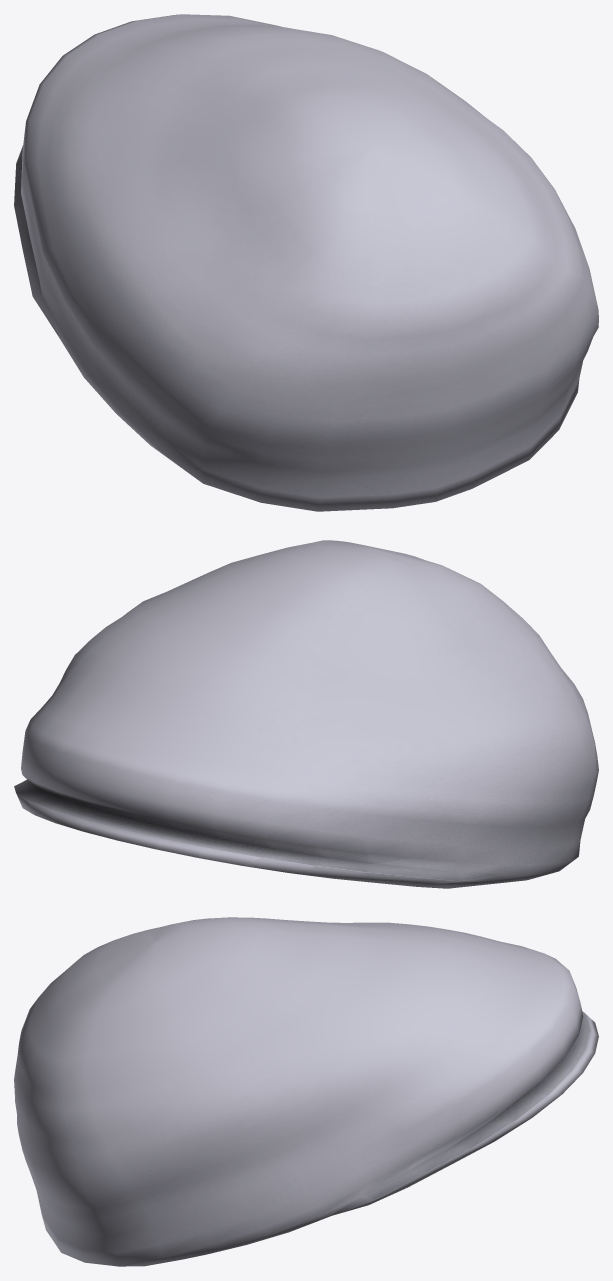
The model's file is Flatcap.DAE.
3 renders of one model, top to bottom at view 1: azimuth 30°, elevation 25°; view 2: azimuth 150°, elevation 25°; view 3: azimuth 270°, elevation 25°, orthographic. The views are drawn at different scales.
Parts seen in each view (by area): view 1: Flatcap; view 2: Flatcap; view 3: Flatcap.
Boxes of the visible parts, x1=… form: Flatcap: x1=14, y1=14, x2=598, y2=511; Flatcap: x1=14, y1=540, x2=598, y2=888; Flatcap: x1=14, y1=917, x2=598, y2=1266.
Bounding box in the file's own units: 6.05 × 7.78 × 4.18.
